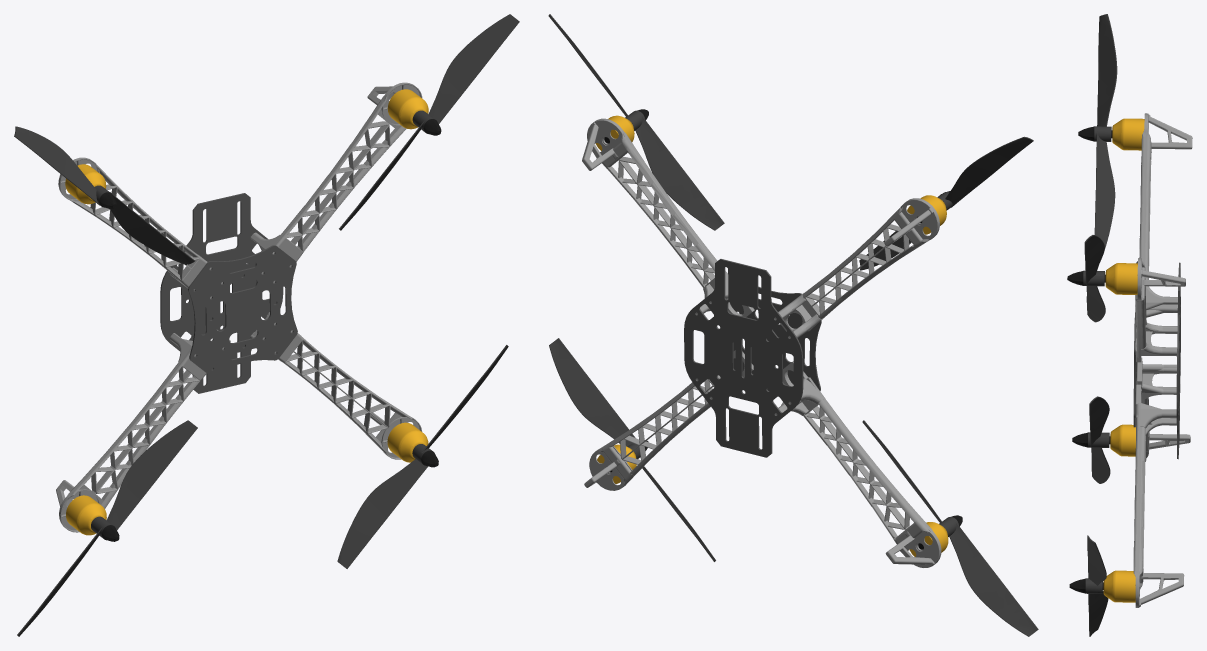
File: F450 Quadcopter Frame with Pixhawk 2.4.8 Flight Controller.obj
The picture shows the model from 3 angles, left to right: view 1: azimuth 30°, elevation 25°; view 2: azimuth 150°, elevation 25°; view 3: azimuth 270°, elevation 25°; orthographic projection. The views are drawn at different scales.
Visible parts, largest first — view 1: empty_3, empty_2, empty_8, empty_6, empty_4, empty_26, empty_27, empty_21, empty_20, empty_10, empty_13, empty_19 (+1 smaller); view 2: empty_2, empty_6, empty_8, empty_10, empty_4, empty_27, empty_26, empty_21, empty_20, empty_3; view 3: empty_20, empty_4, empty_10, empty_8, empty_6, empty_26, empty_27, empty_21, empty_19, empty_17, empty_15, empty_13 (+2 smaller).
Boxes of the visible parts, <box> form: empty_3: <box>188,245,297,375</box>; empty_2: <box>160,193,283,393</box>; empty_8: <box>250,82,422,283</box>; empty_6: <box>56,330,230,532</box>; empty_4: <box>250,312,422,459</box>; empty_26: <box>339,14,519,230</box>; empty_27: <box>17,420,197,636</box>; empty_21: <box>337,345,508,568</box>; empty_20: <box>14,126,194,264</box>; empty_10: <box>58,157,222,298</box>; empty_13: <box>66,495,106,535</box>; empty_19: <box>387,89,428,129</box>; empty_2: <box>684,259,803,457</box>; empty_6: <box>775,361,941,567</box>; empty_8: <box>582,118,754,317</box>; empty_10: <box>775,198,939,338</box>; empty_4: <box>584,350,753,490</box>; empty_27: <box>862,420,1038,636</box>; empty_26: <box>548,14,724,230</box>; empty_21: <box>549,338,715,561</box>; empty_20: <box>859,136,1033,270</box>; empty_3: <box>729,286,821,391</box>; empty_20: <box>1094,14,1117,248</box>; empty_4: <box>1133,384,1184,607</box>; empty_10: <box>1139,113,1192,317</box>; empty_8: <box>1135,258,1185,362</box>; empty_6: <box>1136,357,1190,461</box>; empty_26: <box>1083,235,1105,322</box>; empty_27: <box>1088,396,1110,483</box>; empty_21: <box>1085,535,1108,636</box>; empty_19: <box>1105,263,1137,294</box>; empty_17: <box>1103,570,1135,602</box>; empty_15: <box>1112,118,1144,150</box>; empty_13: <box>1110,424,1135,456</box>.
Size of the model in its own units: 0.5025 by 0.4955 by 0.1176.
